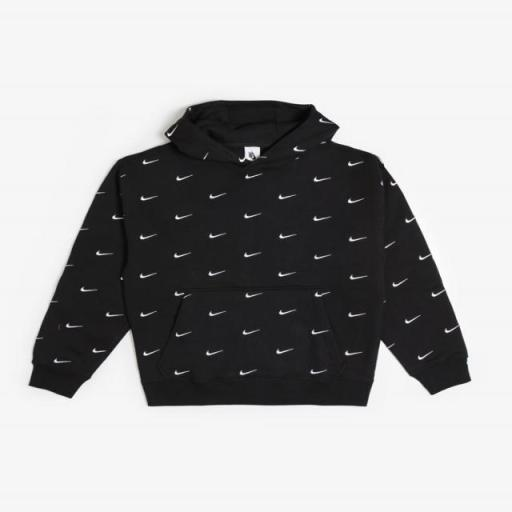Nike: (275, 192, 298, 202)
